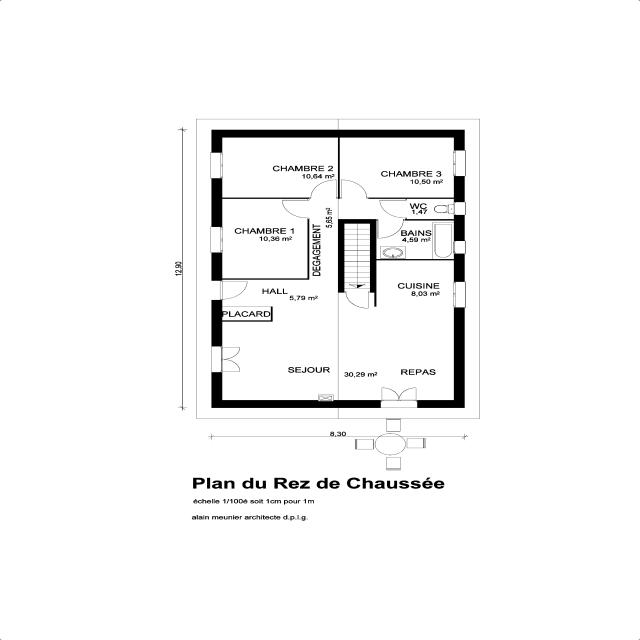door: (217, 337, 240, 381), (384, 382, 416, 407), (283, 192, 307, 225), (341, 173, 365, 204), (346, 285, 369, 315), (378, 214, 400, 245), (220, 274, 244, 301), (382, 196, 406, 223), (312, 174, 333, 204)
window: (452, 140, 465, 188), (211, 142, 224, 188), (211, 217, 224, 262), (453, 271, 465, 317), (455, 236, 465, 260), (456, 196, 464, 222)
zone: (338, 260, 455, 400), (222, 278, 338, 400), (222, 198, 310, 279), (340, 136, 453, 199), (223, 137, 340, 197), (377, 220, 454, 258), (376, 200, 452, 220)
